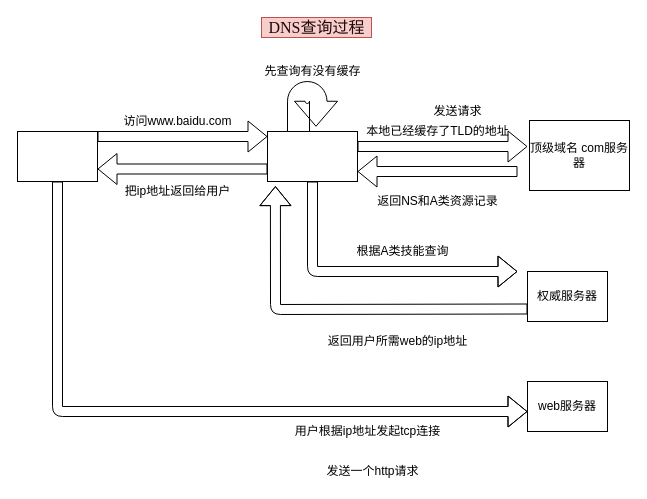
This 647x499 diagram has some shape labels left out. Here are the shapes that lost their labels. From the top down, the centre of each, then its label:
the point at 57,156: 用户
the point at 312,156: 本地DNS服务器
